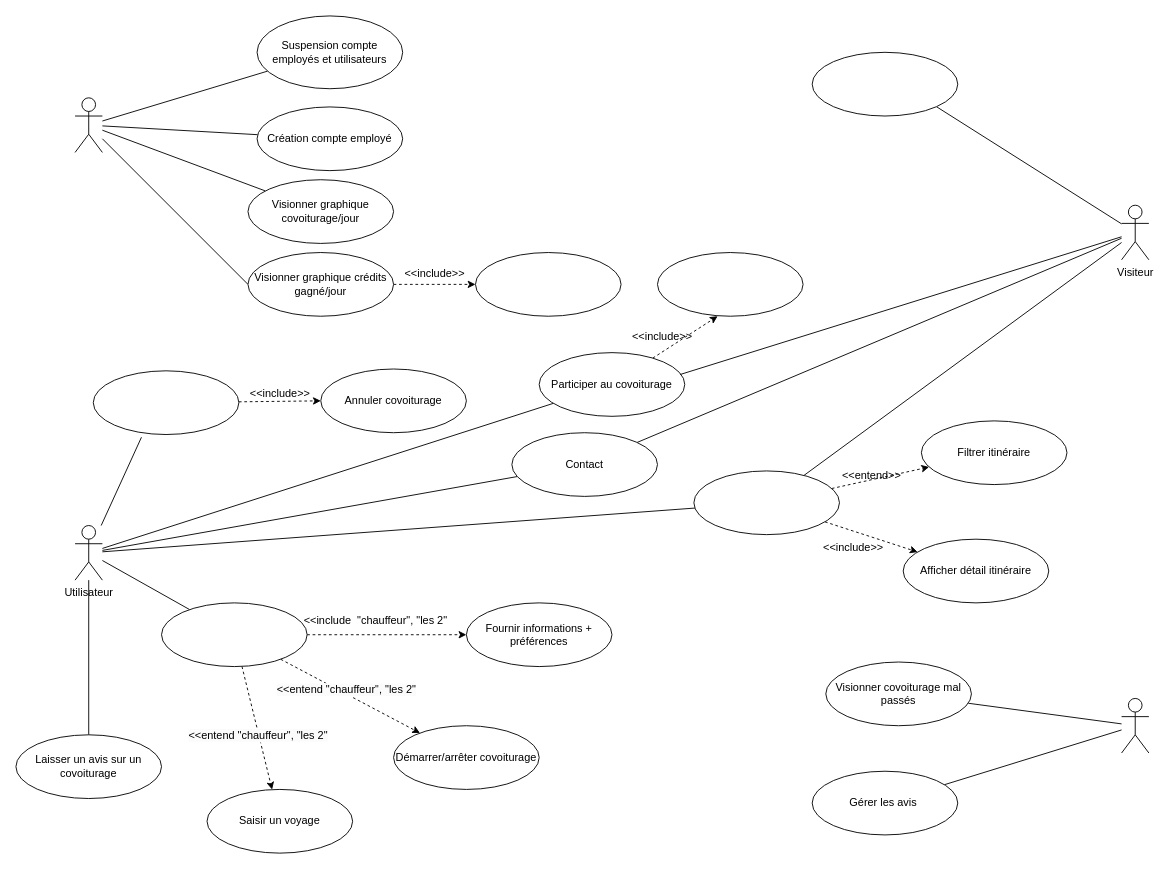
Image size: 1172x869. Some labels were removed from this diagram. The centre of each missing label's shape, as x and y in pixels:
"Admiistrateur" belongs at point (88, 124).
"Connexion" belongs at point (730, 284).
"Employé" belongs at point (1135, 725).
"Gérer profil : chauffeur, passager ou les 2" belongs at point (234, 634).
"Inscription" belongs at point (884, 83).
"Rechercher itinéraire" belongs at point (766, 502).
"Visionner historique covoiturage" belongs at point (165, 402).
"Visionner nombre total crédits gagnés par la plateforme" belongs at point (548, 284).
